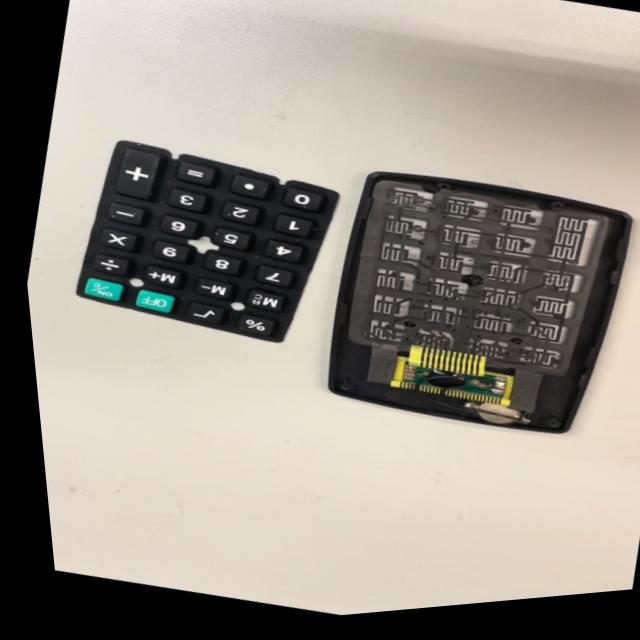front_panel: (289, 136, 640, 476)
number_pad: (48, 105, 362, 378)
